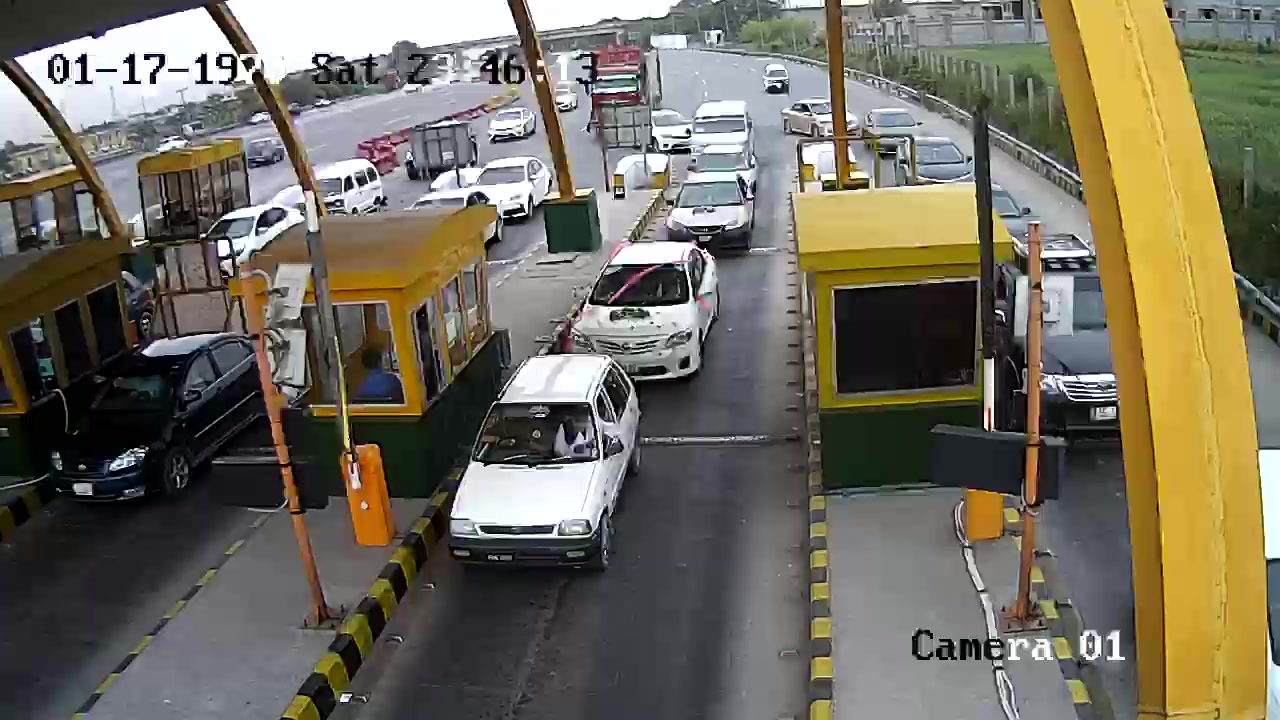F1: (440, 351, 645, 576)
